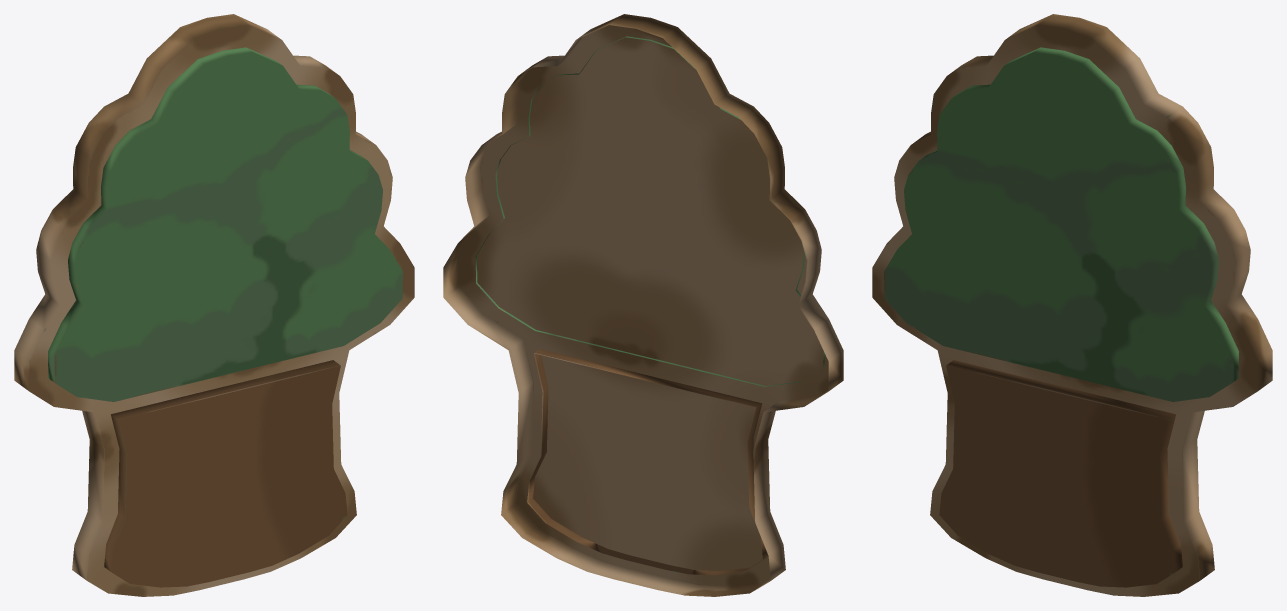
Rendered from Tree_biscuit.fbx.
3 views of the same model, side by side, from view 1: azimuth 30°, elevation 25°; view 2: azimuth 150°, elevation 25°; view 3: azimuth 330°, elevation 25° (orthographic).
Visible parts, largest first — view 1: pCylinder6; view 2: pCylinder6; view 3: pCylinder6.
Boxes of the visible parts, x1,y1,x2,y2 form: pCylinder6: (14, 14, 414, 596); pCylinder6: (443, 14, 843, 596); pCylinder6: (872, 14, 1272, 596).
Size of the model in its own units: 1.7 by 2.34 by 0.173.
Materials: 1 (1 with a texture image).
